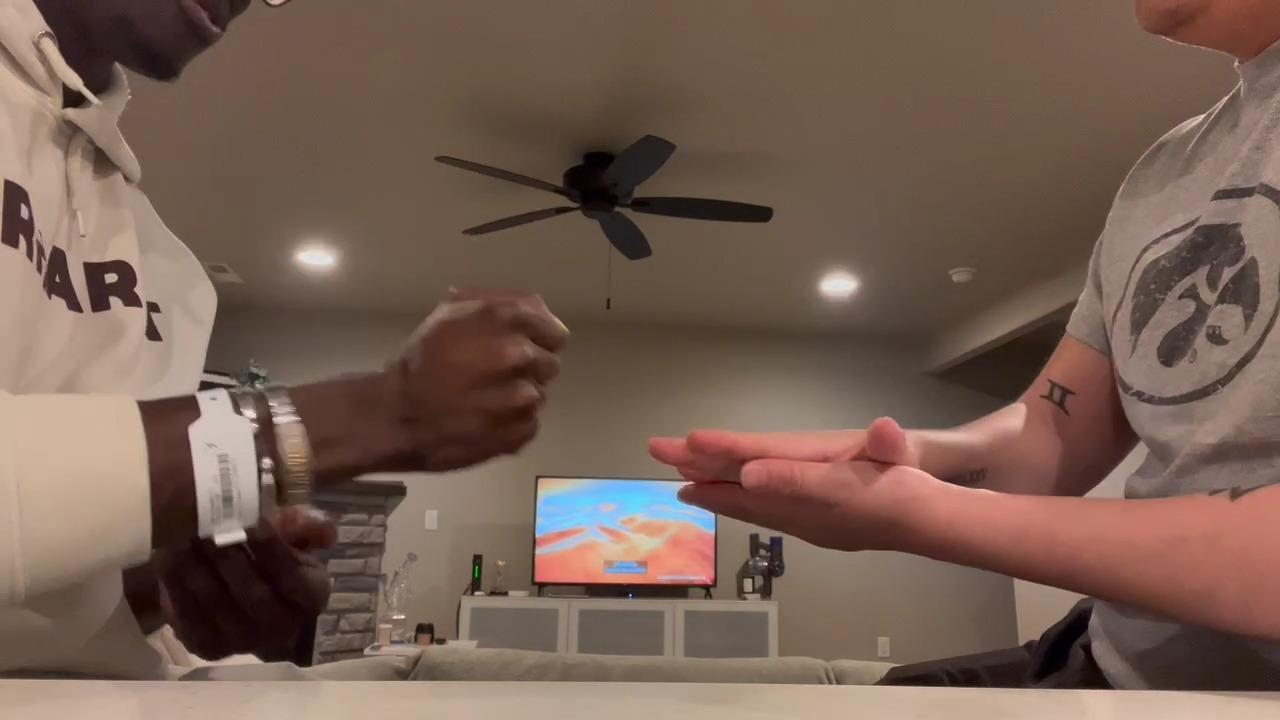Paper: (647, 414, 915, 482)
Rock: (393, 282, 577, 473)
